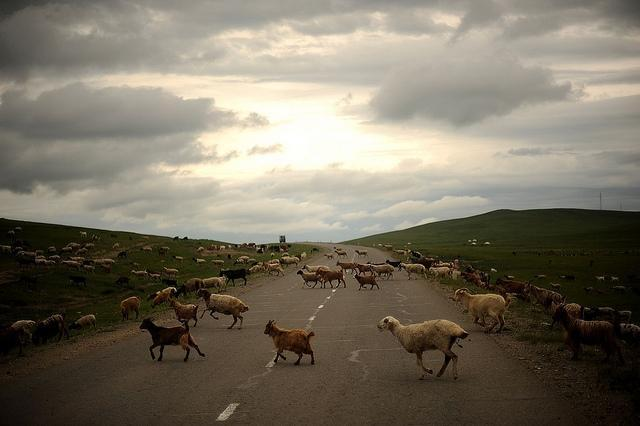truck: (278, 234, 286, 244)
